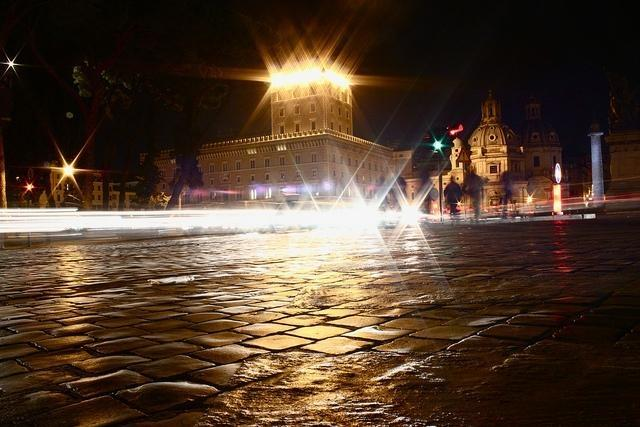car: (379, 213, 421, 229)
